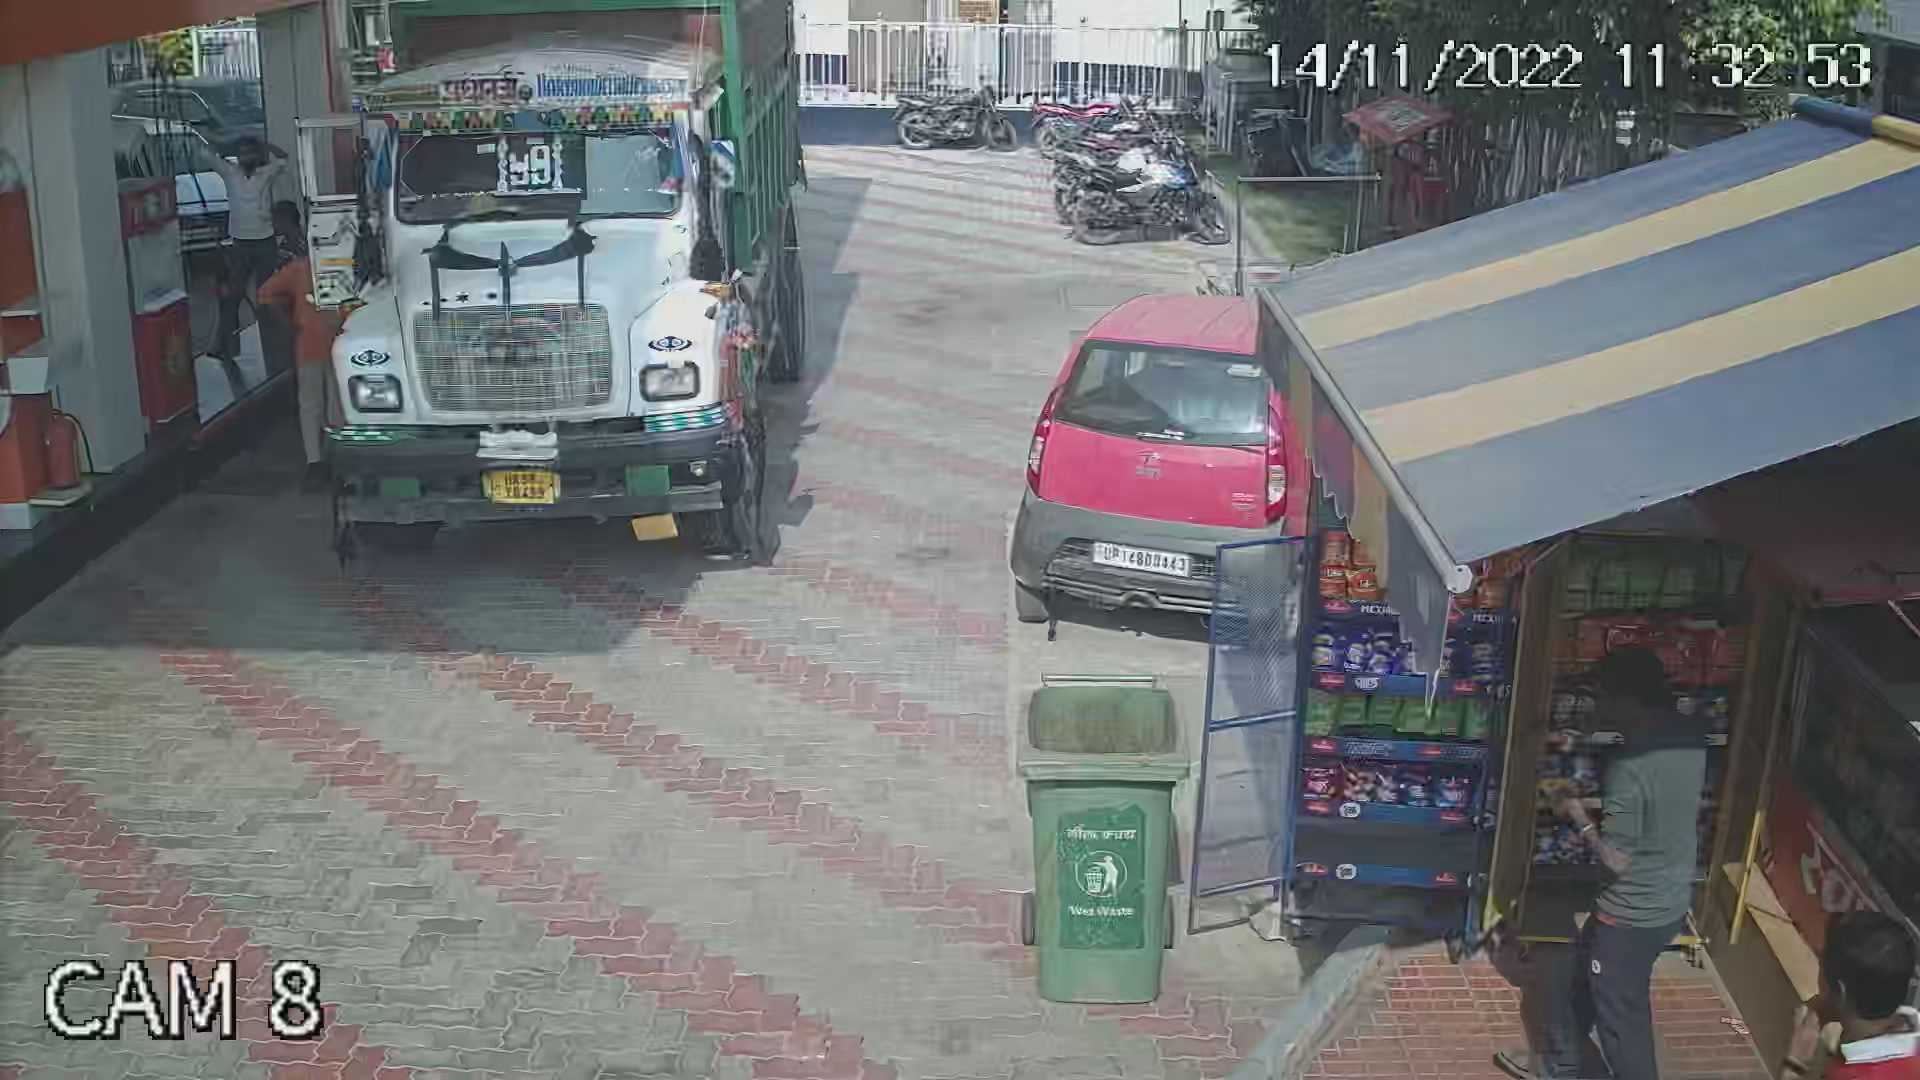Bike: (1038, 95, 1230, 256), (887, 73, 1021, 158)
Car: (1000, 269, 1348, 629), (136, 113, 229, 253), (109, 65, 262, 142)
HMV: (278, 0, 825, 571)
Others: (255, 220, 343, 500)
